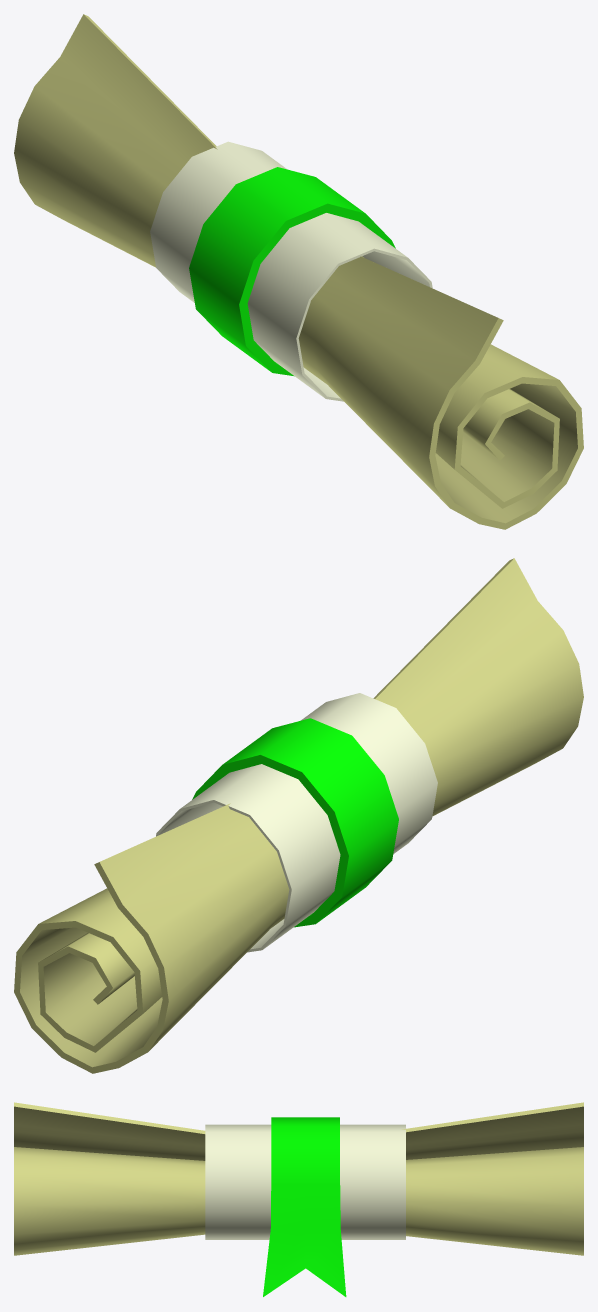
File: Scroll_Green.fbx
3 views of the same model, one above another, from view 1: azimuth 30°, elevation 25°; view 2: azimuth 150°, elevation 25°; view 3: azimuth 270°, elevation 25° (orthographic). The views are drawn at different scales.
Parts seen in each view (by area): view 1: Scroll_Green; view 2: Scroll_Green; view 3: Scroll_Green.
Boxes of the visible parts, x1,y1,x2,y2 form: Scroll_Green: (14,14,583,529); Scroll_Green: (14,558,583,1073); Scroll_Green: (14,1102,583,1296).
Size of the model in its own units: 0.25 by 0.2259 by 0.7965.
